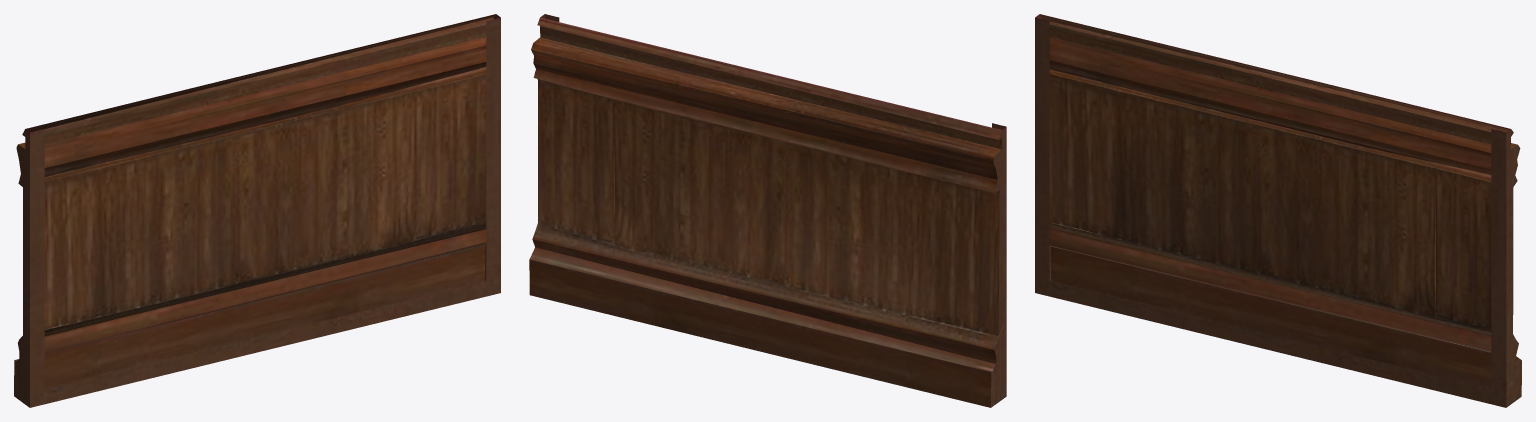
Rendered from panel-wainscot.lod1.glb.
3 views of the same model, side by side, from view 1: azimuth 30°, elevation 25°; view 2: azimuth 150°, elevation 25°; view 3: azimuth 330°, elevation 25° (orthographic). The views are drawn at different scales.
Parts seen in each view (by area): view 1: panel-wainscot; view 2: panel-wainscot; view 3: panel-wainscot.
Part boxes in pixels (x1=…): panel-wainscot: x1=14, y1=14, x2=500, y2=407; panel-wainscot: x1=529, y1=14, x2=1006, y2=407; panel-wainscot: x1=1035, y1=14, x2=1521, y2=407.
Bounding box in the file's own units: 2 × 1.12 × 0.1169.
Materials: 1 (1 with a texture image).
